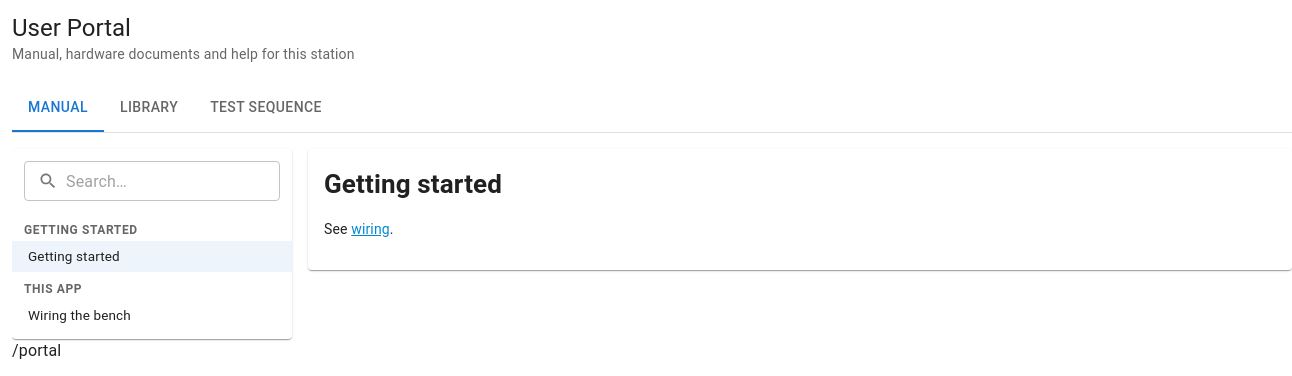
it: Portal › Test Sequence tab: shown to PORTAL.SEQUENCE holders with the framework placeholder
The image size is (1292, 376).
Expected: the heading "Getting started" is shown, [324,169,502,199]
What coordinates should you click on to do the following:
click the tab "Test Sequence"
I would click on:
 (266, 108)
Its box is [194,84,338,132].
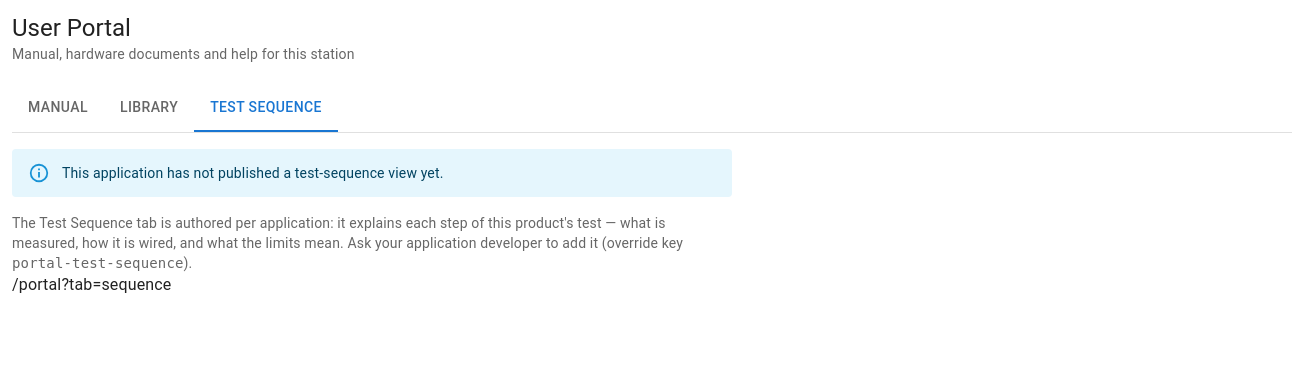
Result: the text "This application has not published a test-sequence view yet." is shown at [62,165,444,181]
Result: the text with test id "where" reads "/portal?tab=sequence" at [12,275,172,294]
